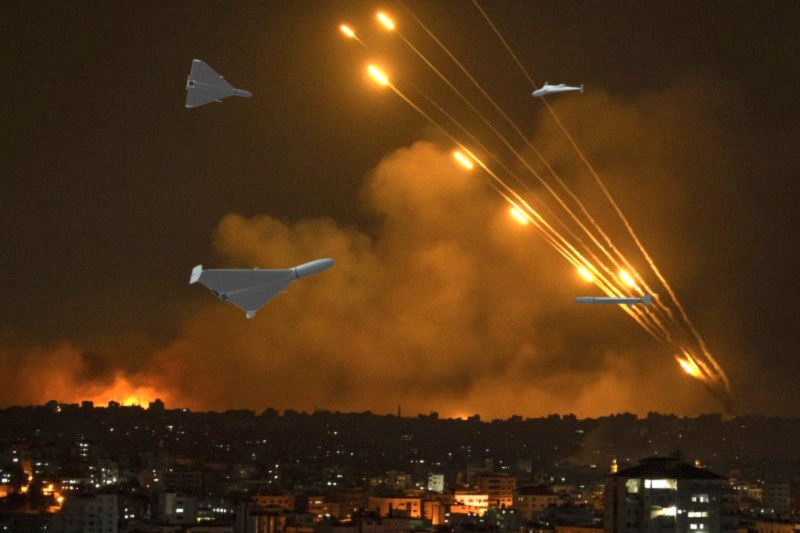shahed: (183, 251, 339, 321), (182, 56, 252, 110), (572, 288, 657, 309), (529, 79, 585, 100)
